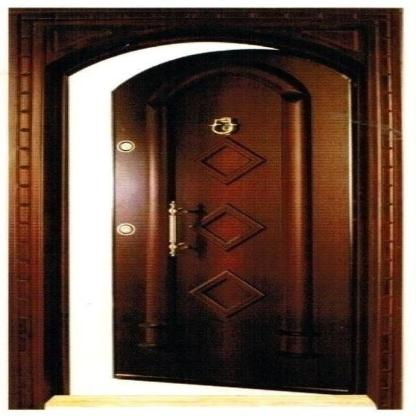door: (12, 8, 405, 414)
